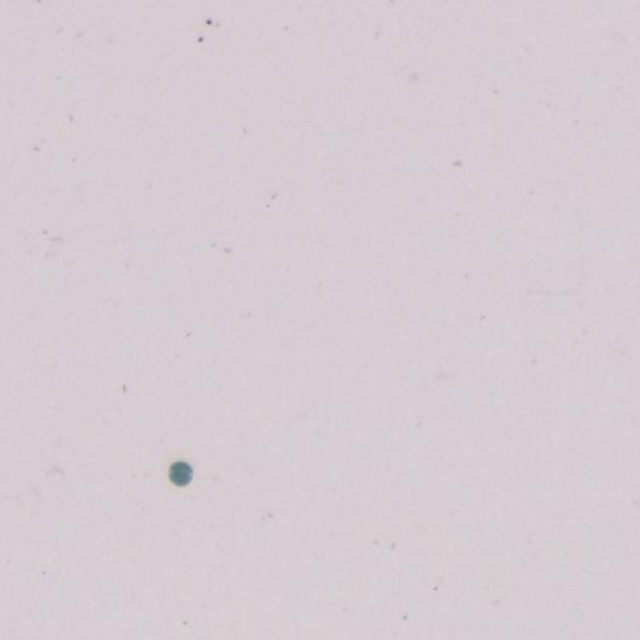non_viable: (168, 461, 193, 485)
